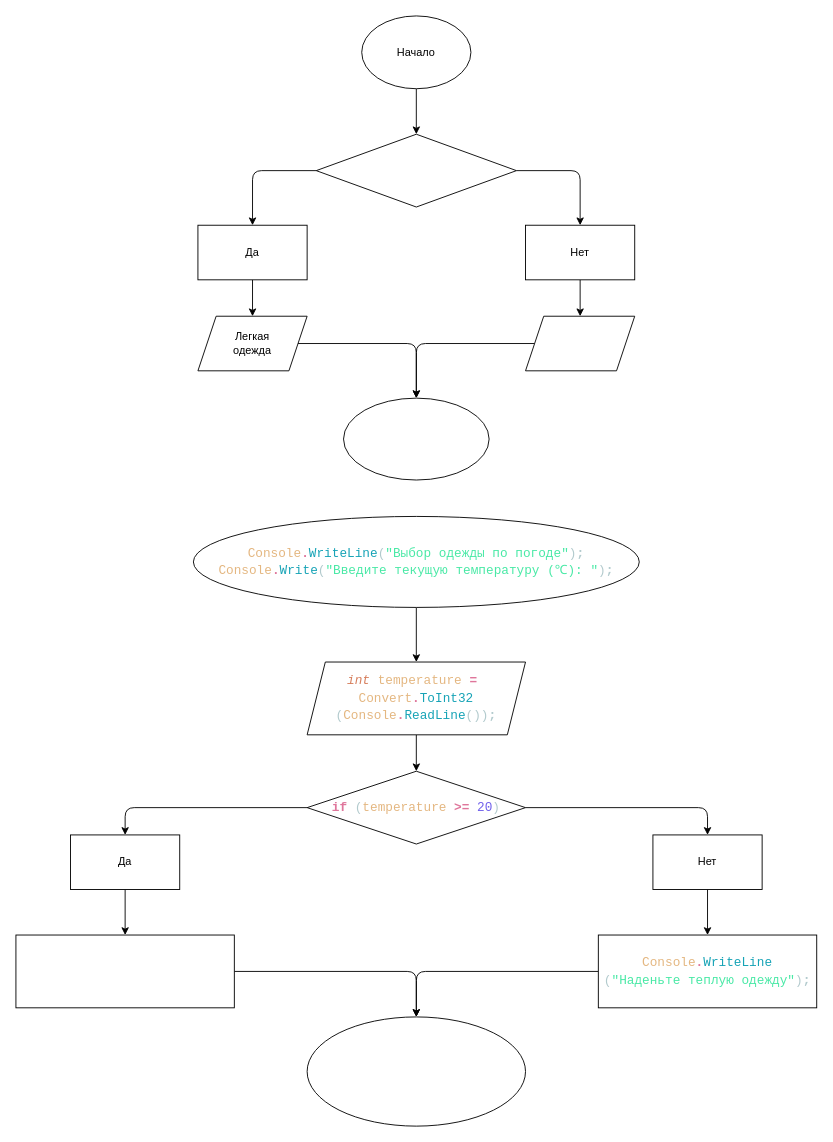
This 833x1142 diagram has some shape labels left out. Here are the shapes that lost their labels. From the top down, the centre of each, then its label:
[415,170]: Температура ≽ 20 ℃?
[580,343]: Теплая одежда
[416,438]: Конец
[124,971]: Console . WriteLine ( "Наденьте легкую одежду" ) ;
[416,1071]: Console . WriteLine ( "Хорошего дня" ) ;
